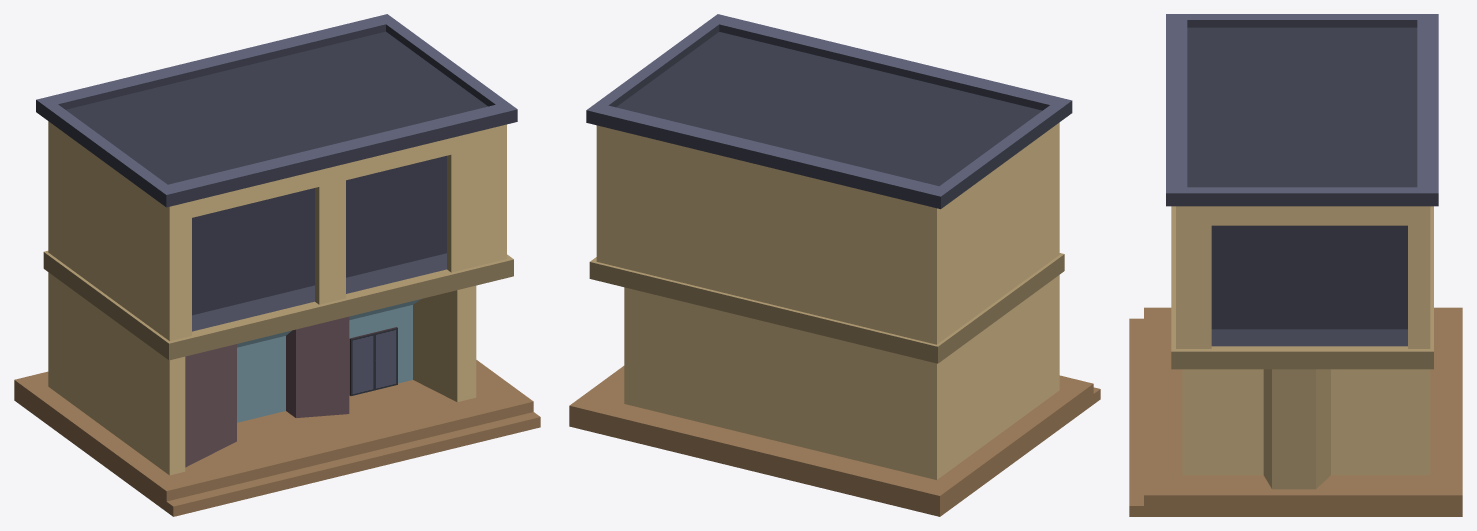
File: house08_color01.fbx
3 renders of one model, left to right at view 1: azimuth 30°, elevation 25°; view 2: azimuth 150°, elevation 25°; view 3: azimuth 270°, elevation 25°, orthographic. The views are drawn at different scales.
Visible parts, largest first — view 1: House08 V1; view 2: House08 V1; view 3: House08 V1.
Boxes of the visible parts, x1=… form: House08 V1: x1=14, y1=14, x2=540, y2=516; House08 V1: x1=569, y1=14, x2=1100, y2=516; House08 V1: x1=1129, y1=14, x2=1462, y2=516.
Size of the model in its own units: 1448 by 1155 by 1087.
